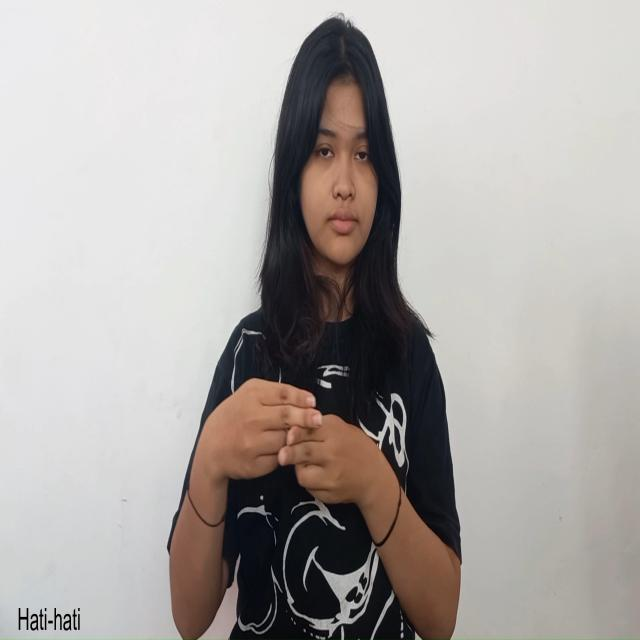Hati-hati -BISINDO-: (202, 372, 378, 509)
